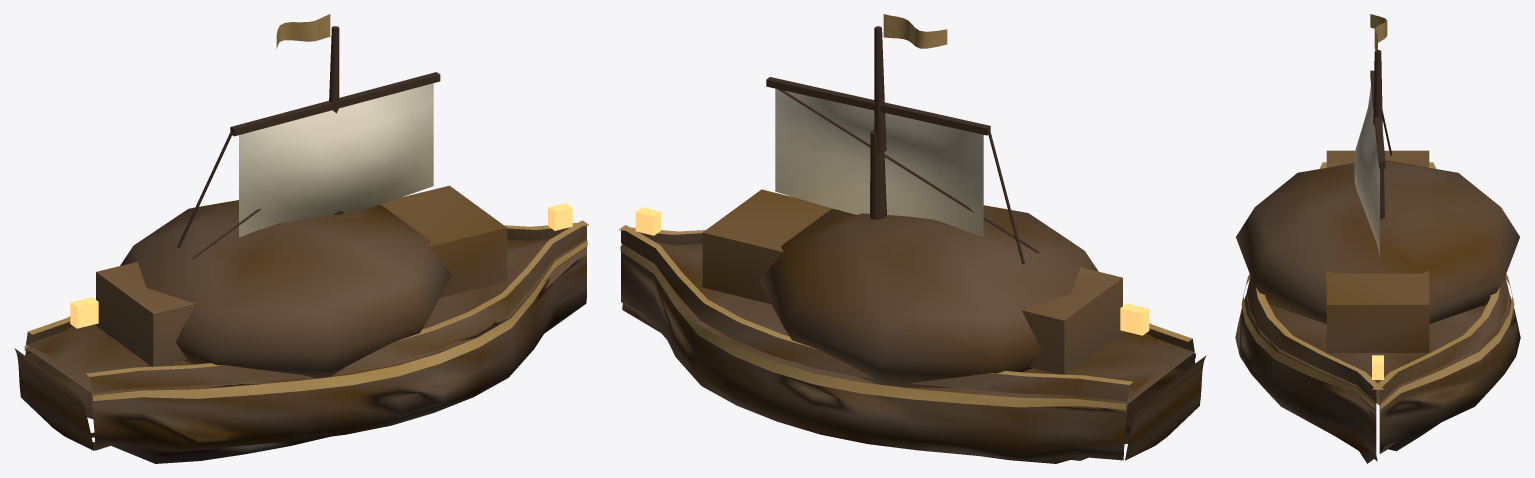
Rendered from garden-hero-cog.glb.
3 views of the same model, side by side, from view 1: azimuth 30°, elevation 25°; view 2: azimuth 150°, elevation 25°; view 3: azimuth 270°, elevation 25° (orthographic). The views are drawn at different scales.
Visible parts, largest first — view 1: wood-hull, sail-hull, trim-hull, spar-hull, glow-hull; view 2: wood-hull, sail-hull, spar-hull, trim-hull, glow-hull; view 3: wood-hull, trim-hull, sail-hull, spar-hull, glow-hull.
Boxes of the visible parts, <box> form: wood-hull: <box>14,14,588,463</box>; sail-hull: <box>239,83,433,237</box>; trim-hull: <box>24,240,587,400</box>; spar-hull: <box>177,26,440,259</box>; glow-hull: <box>70,203,572,328</box>; wood-hull: <box>619,14,1206,463</box>; sail-hull: <box>775,88,983,237</box>; spar-hull: <box>766,26,1039,263</box>; trim-hull: <box>620,246,1195,409</box>; glow-hull: <box>635,207,1149,335</box>; wood-hull: <box>1235,14,1520,463</box>; trim-hull: <box>1241,274,1514,409</box>; sail-hull: <box>1354,86,1379,256</box>; spar-hull: <box>1370,50,1392,219</box>; glow-hull: <box>1372,127,1383,379</box>.
Size of the model in its own units: 8.38 by 6.1 by 4.3.
